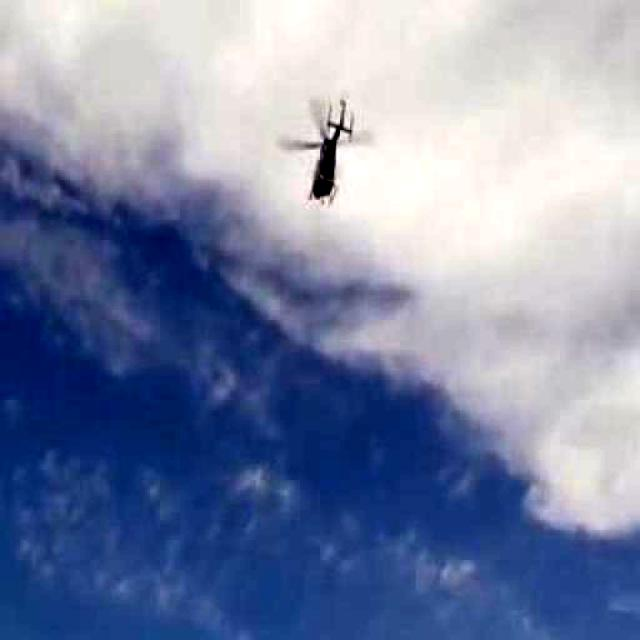drone: (256, 76, 382, 230)
